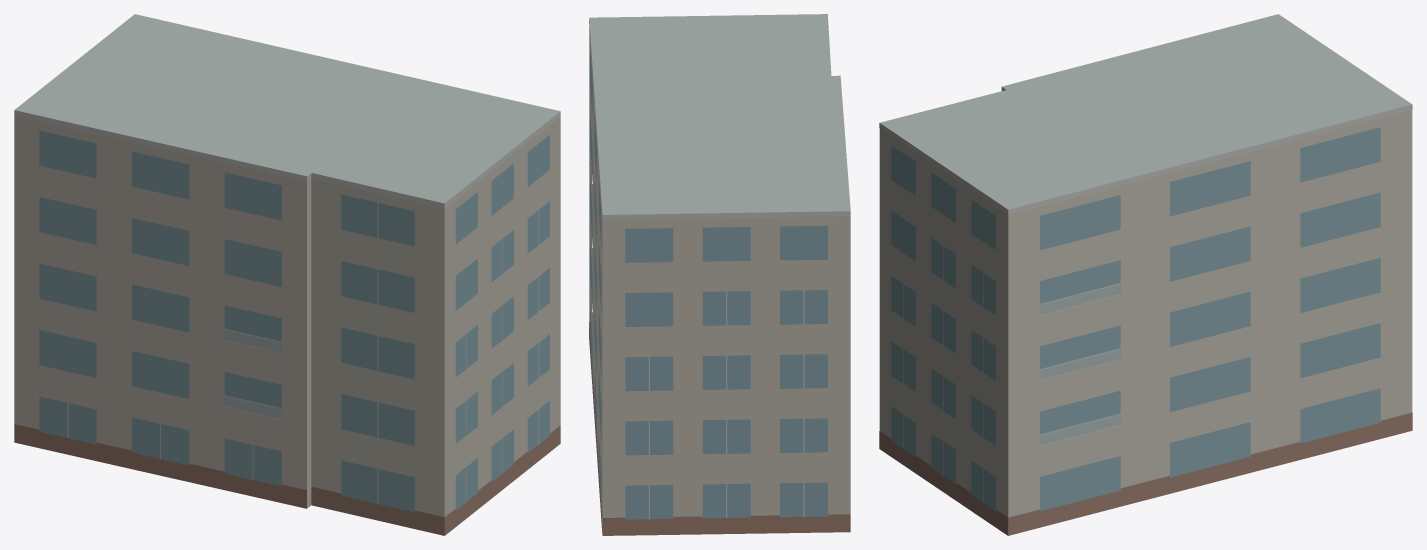
The model's file is survey-upis-32767916.glb.
3 renders of one model, left to right at view 1: azimuth 30°, elevation 25°; view 2: azimuth 150°, elevation 25°; view 3: azimuth 270°, elevation 25°, orthographic. The views are drawn at different scales.
Parts seen in each view (by area): view 1: survey-upis-32767916.tmp; view 2: survey-upis-32767916.tmp; view 3: survey-upis-32767916.tmp.
Boxes of the visible parts, x1,y1,x2,y2 form: survey-upis-32767916.tmp: (14, 14, 560, 535); survey-upis-32767916.tmp: (589, 14, 850, 535); survey-upis-32767916.tmp: (879, 14, 1412, 535).
Size of the model in its own units: 19.56 by 15.2 by 22.52.
